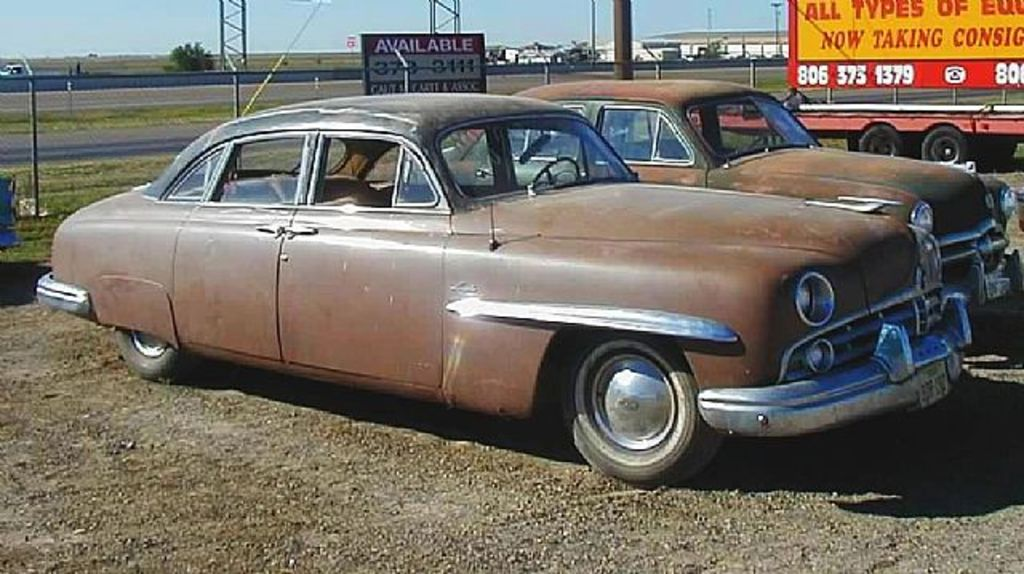Car: (36, 92, 971, 483), (444, 77, 1019, 307)
